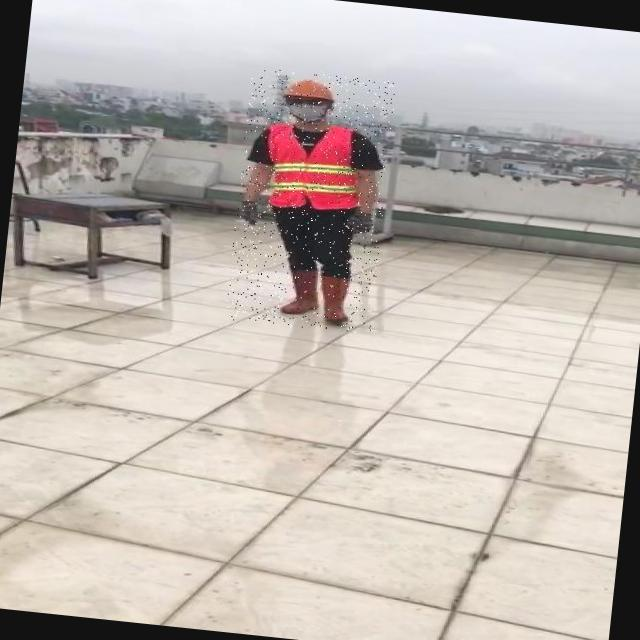boots: (274, 266, 320, 316), (318, 274, 353, 325)
helmet: (280, 75, 339, 102)
vest: (260, 118, 362, 215)
